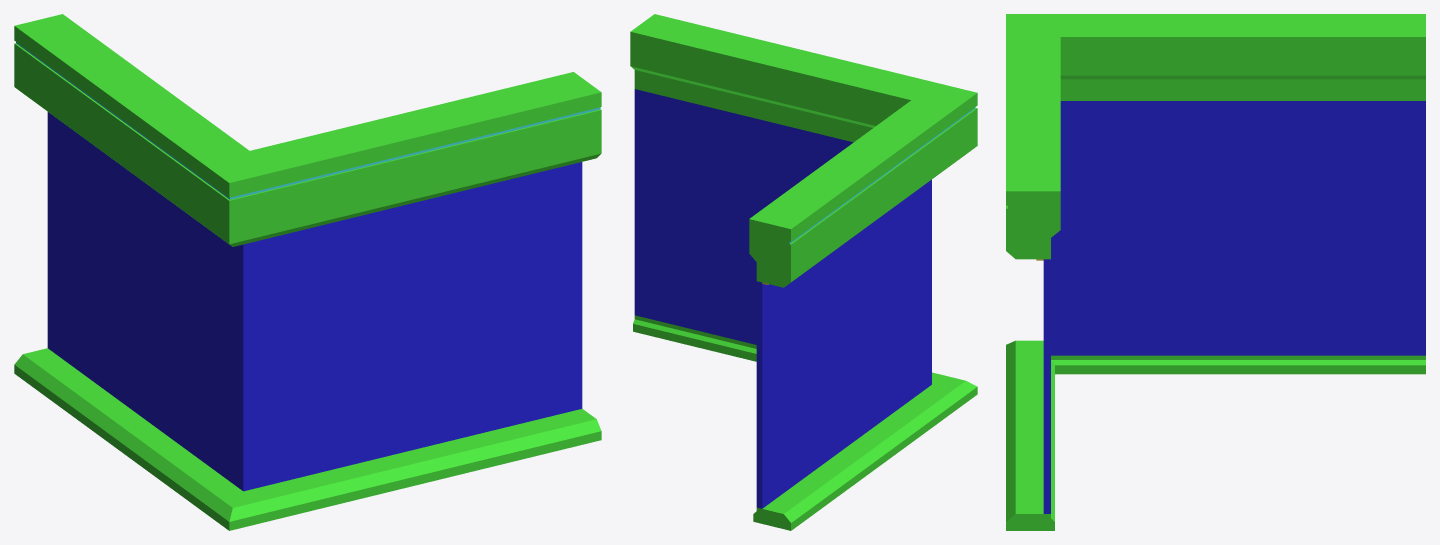
Rendered from Window_10_Interior_Corner.fbx.
3 renders of one model, left to right at view 1: azimuth 30°, elevation 25°; view 2: azimuth 150°, elevation 25°; view 3: azimuth 270°, elevation 25°, orthographic. The views are drawn at different scales.
Visible parts, largest first — view 1: Window_10_Interior_Corner; view 2: Window_10_Interior_Corner; view 3: Window_10_Interior_Corner.
Part boxes in pixels (x1=…): Window_10_Interior_Corner: x1=14, y1=14, x2=601, y2=530; Window_10_Interior_Corner: x1=630, y1=14, x2=977, y2=530; Window_10_Interior_Corner: x1=1006, y1=14, x2=1425, y2=530.
Size of the model in its own units: 512 by 457 by 512.
